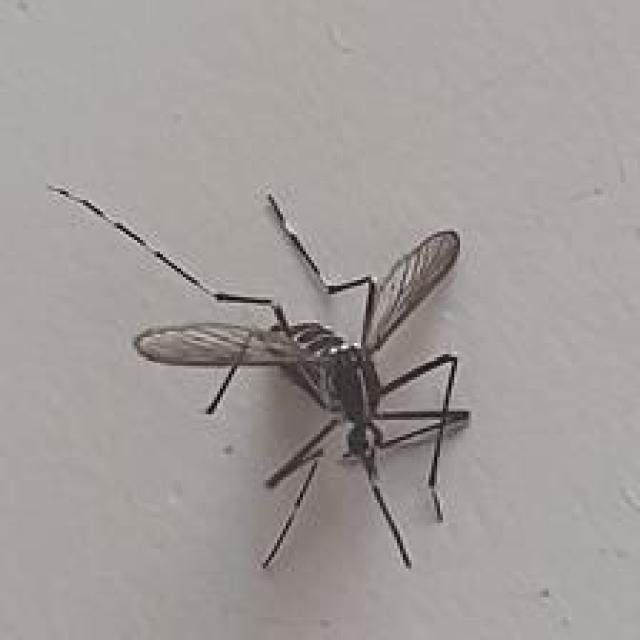Aedes albopictus: (47, 181, 473, 573)
